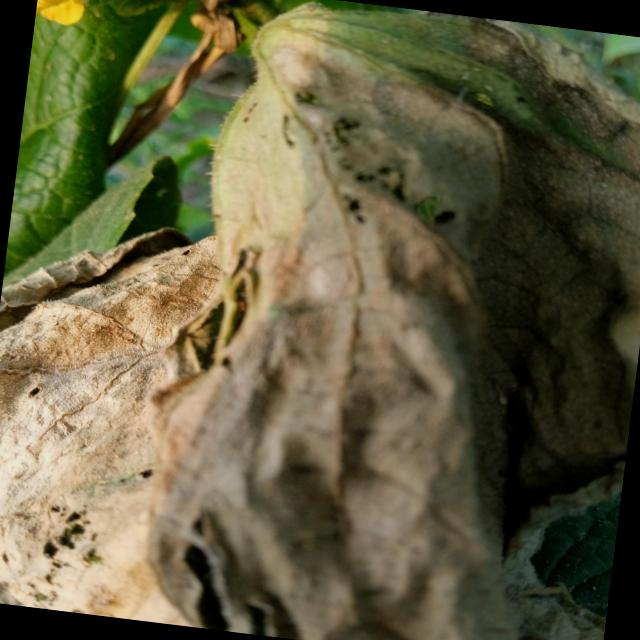cucumber_anthracnose: (162, 51, 640, 640), (0, 222, 203, 622)
